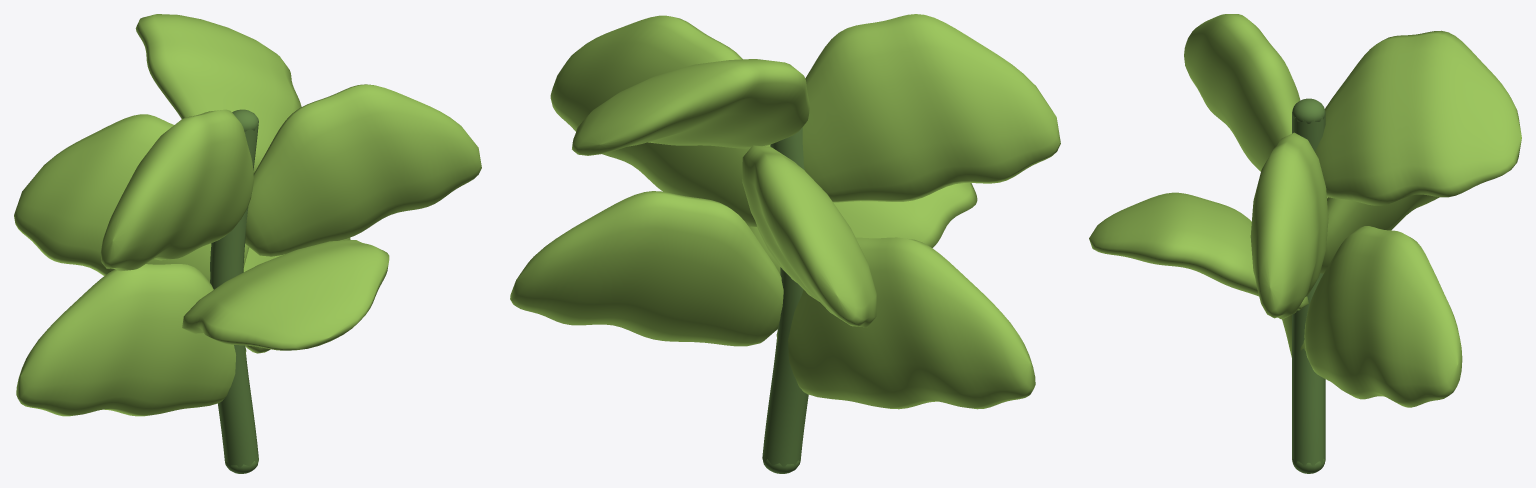
The model's file is crop_4_stage_2.fbx.
3 renders of one model, left to right at view 1: azimuth 30°, elevation 25°; view 2: azimuth 150°, elevation 25°; view 3: azimuth 270°, elevation 25°, orthographic. The views are drawn at different scales.
Visible parts, largest first — view 1: crop_4_stage_2; view 2: crop_4_stage_2; view 3: crop_4_stage_2.
Part boxes in pixels (box(x1,y1,x2,y2)): crop_4_stage_2: box(14, 14, 481, 473); crop_4_stage_2: box(510, 14, 1060, 473); crop_4_stage_2: box(1089, 14, 1521, 473).
Size of the model in its own units: 0.66 by 0.585 by 0.54.
Materials: 1 (1 with a texture image).
